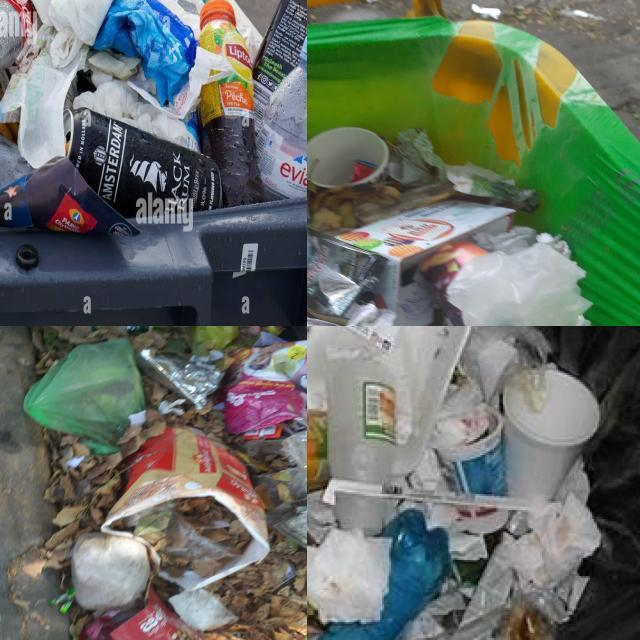Garbage: (307, 326, 601, 640), (24, 326, 307, 640), (307, 128, 591, 326)
Plastic_Bag: (23, 338, 145, 455), (443, 234, 591, 326), (93, 0, 198, 105), (248, 431, 307, 550), (79, 589, 212, 640), (71, 533, 150, 612), (31, 0, 114, 46), (163, 511, 232, 561), (193, 326, 239, 351), (335, 274, 339, 278)
Plastic_Container: (307, 326, 469, 484), (334, 492, 392, 533)
Plastic_bottle: (318, 509, 450, 640), (199, 0, 265, 205), (257, 37, 307, 200)
Plastic_wraper: (102, 428, 270, 589), (223, 341, 307, 434), (307, 230, 385, 317), (136, 349, 223, 409), (243, 424, 282, 440), (350, 159, 377, 182), (432, 308, 448, 326)
Tetrapack: (337, 199, 514, 326)
can: (64, 108, 222, 221), (253, 0, 307, 132)
